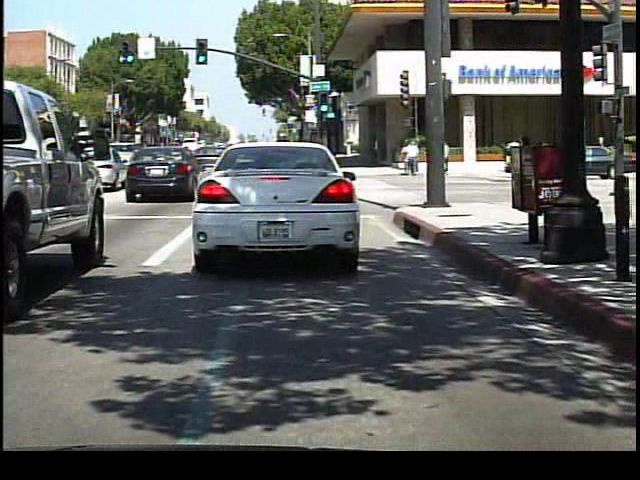person: (503, 134, 524, 175), (402, 136, 421, 179), (436, 135, 454, 172)
